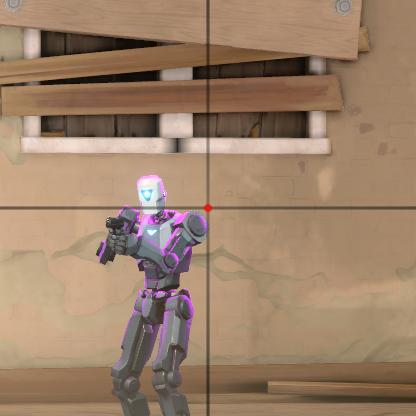enemyBody: (121, 212, 201, 311)
enemyHead: (138, 179, 167, 219)
